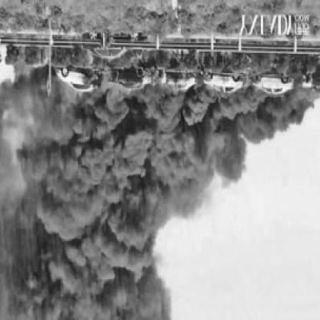Fire: (50, 49, 318, 113)
Smoke: (4, 109, 296, 320)
